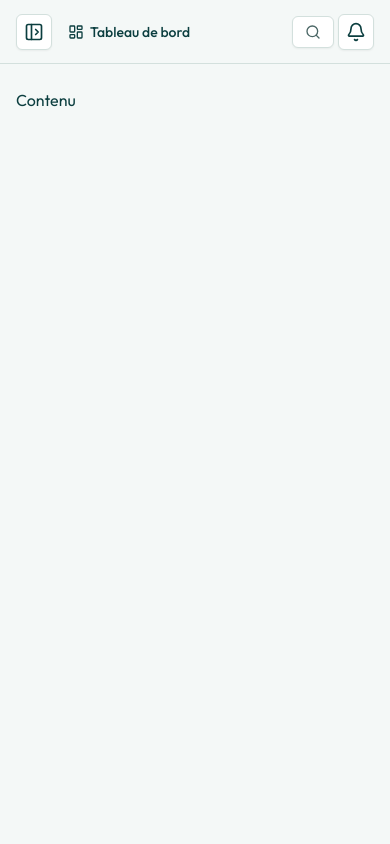
Test: AppShell › opens the mobile menu as a dialog
Click the button named "Ouvrir le menu".
click(34, 32)  # box left=16, top=14, right=52, bottom=50
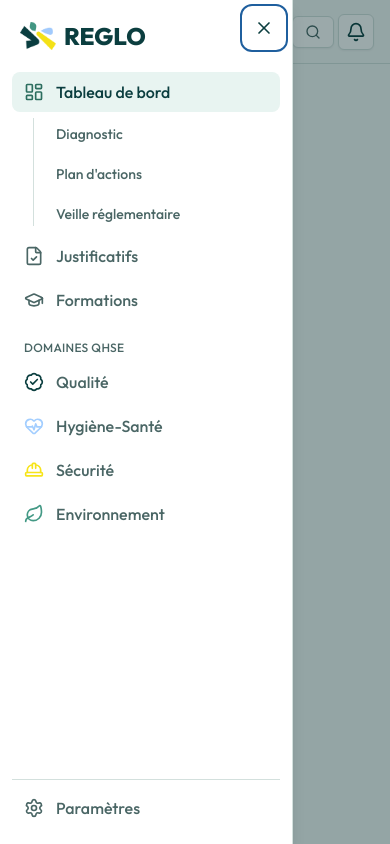
expect the dialog named "Menu" is shown: met
